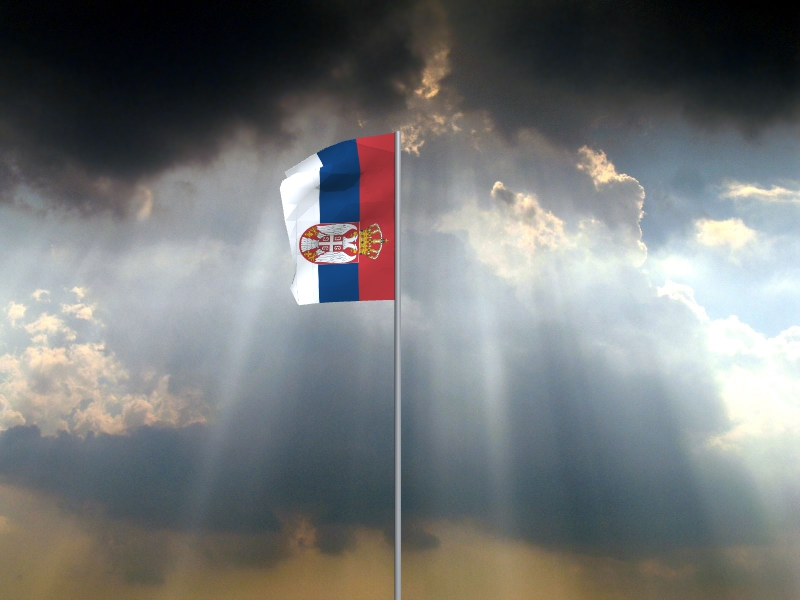rs: (280, 134, 394, 306)
